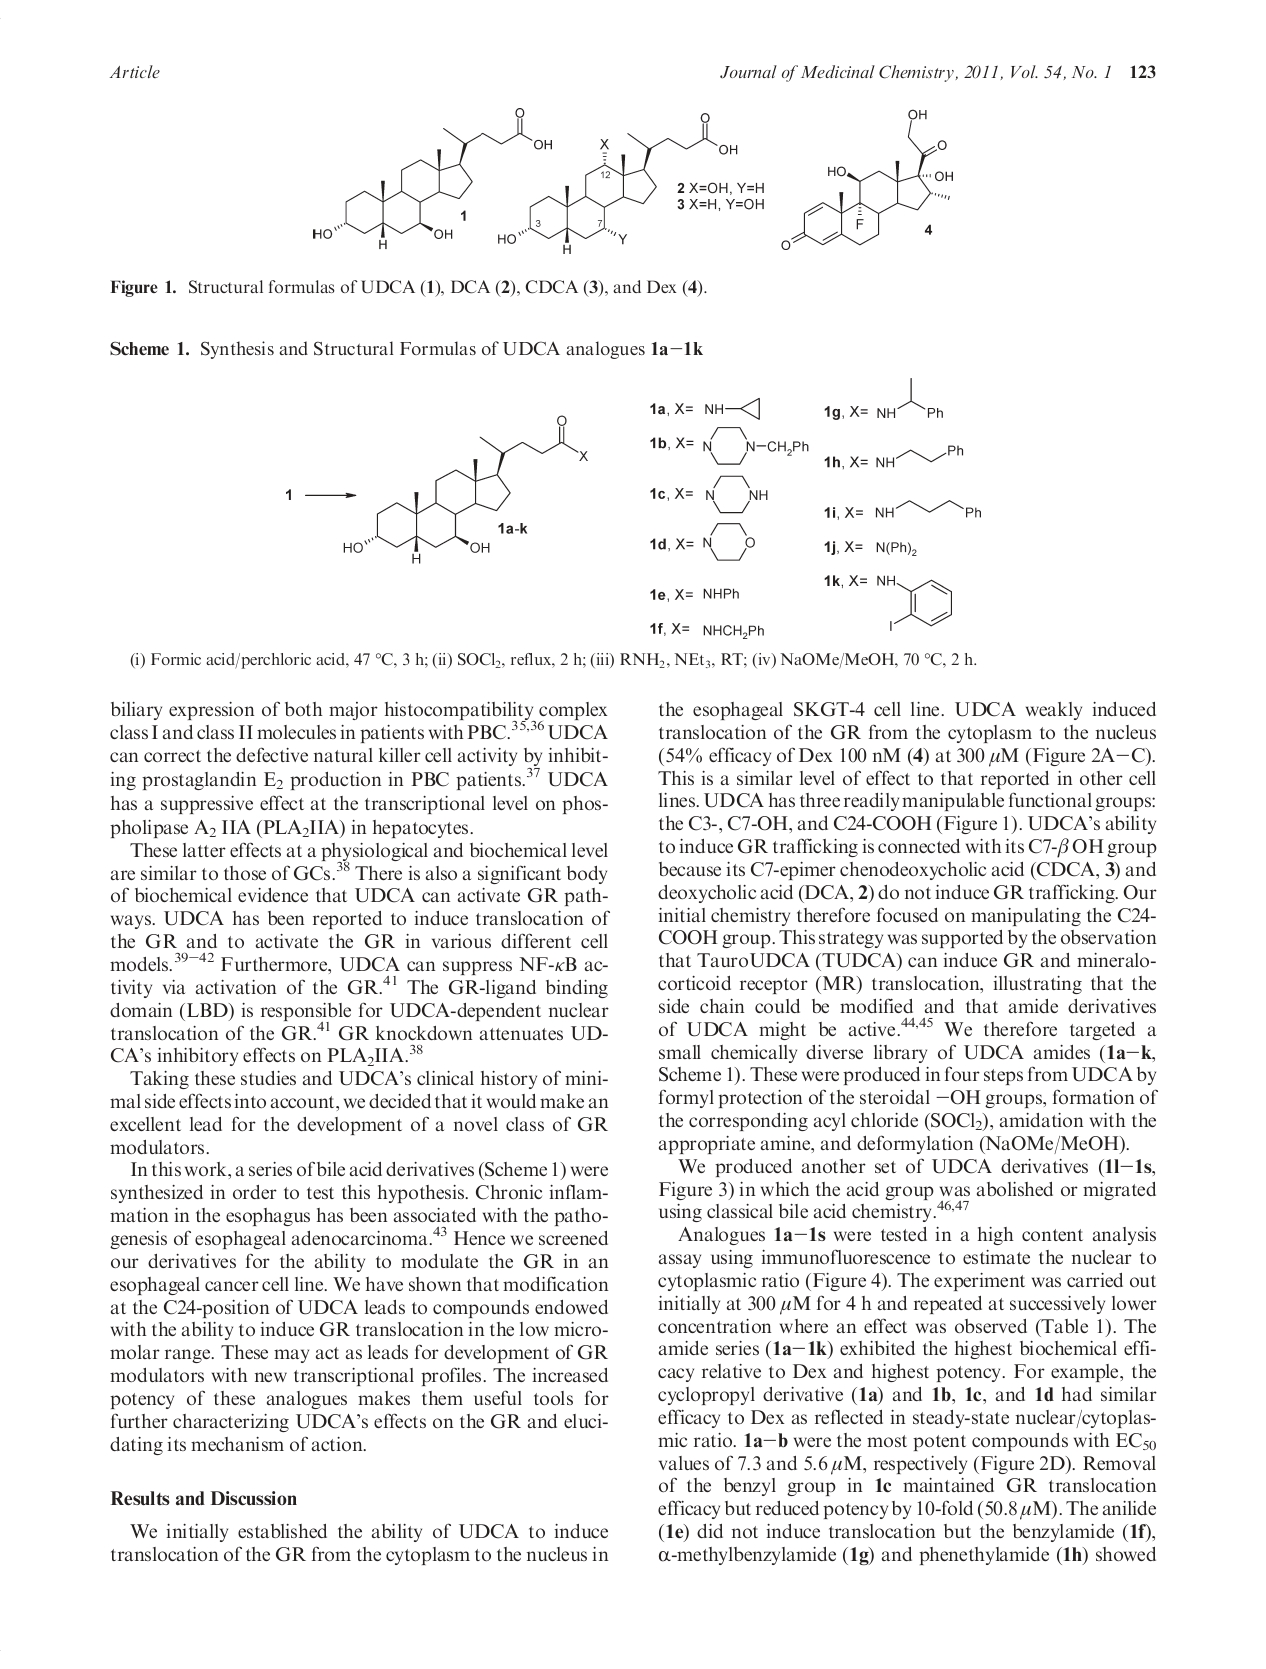exist_molecular: (340, 414, 588, 564), (311, 105, 555, 254), (496, 110, 739, 255), (779, 106, 956, 251), (876, 567, 957, 634), (699, 424, 810, 467), (874, 375, 947, 426), (872, 496, 981, 527), (872, 440, 967, 473), (705, 472, 770, 515), (698, 519, 758, 564), (699, 394, 765, 422)
